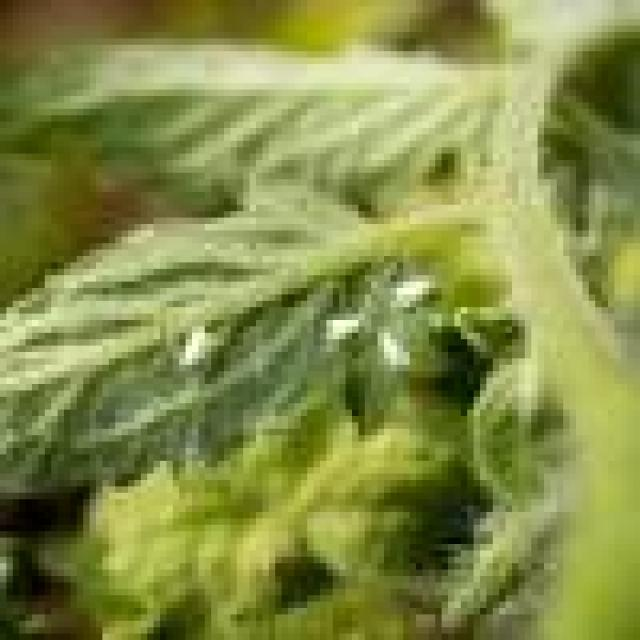Pestalotiopsis: (112, 226, 504, 469)
